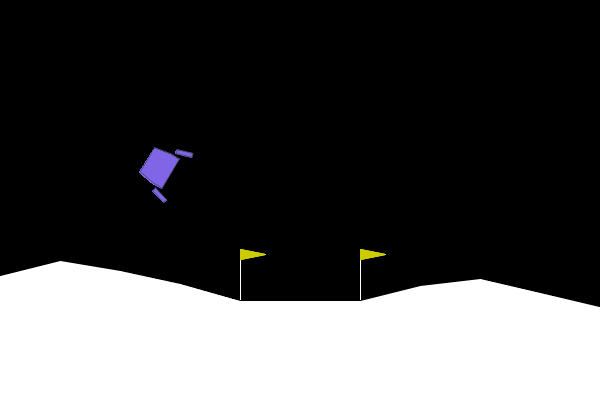lander: (130, 133, 195, 205)
